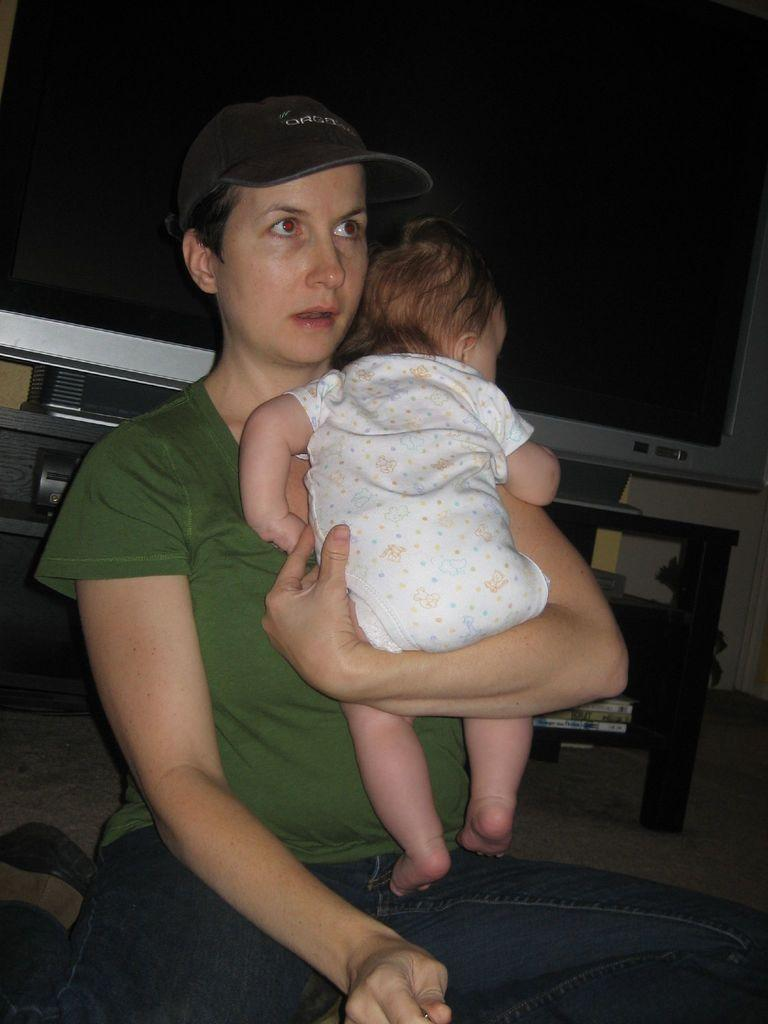Hat: (176, 95, 430, 220)
